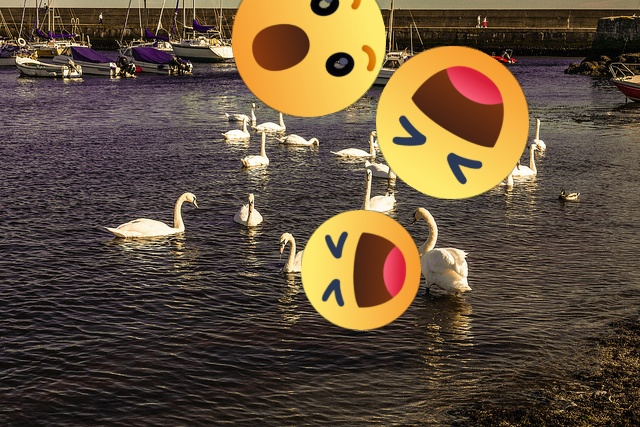haha: (376, 46, 529, 199), (301, 210, 421, 330)
wow: (232, 0, 386, 117)
